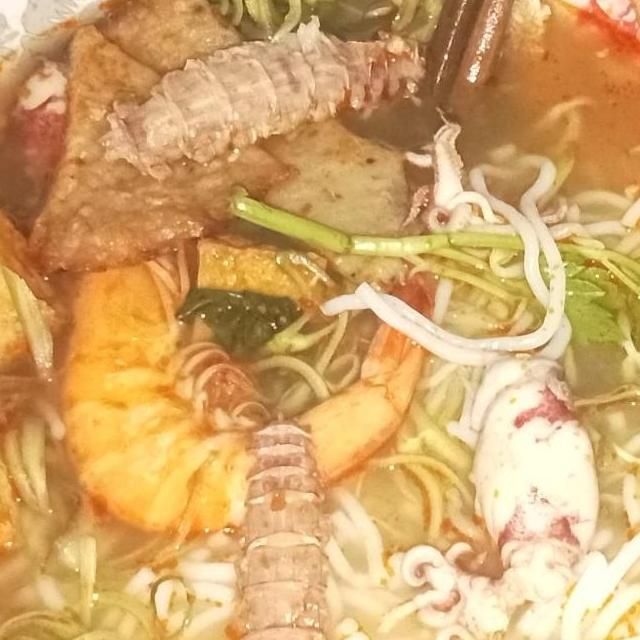bun: (307, 137, 640, 373), (249, 480, 640, 640), (0, 501, 267, 640)
dau hu: (174, 222, 336, 350), (0, 187, 73, 417)
muc: (398, 344, 606, 640)
tom: (49, 227, 438, 538)
tom tit: (94, 9, 438, 182), (223, 409, 347, 640)
